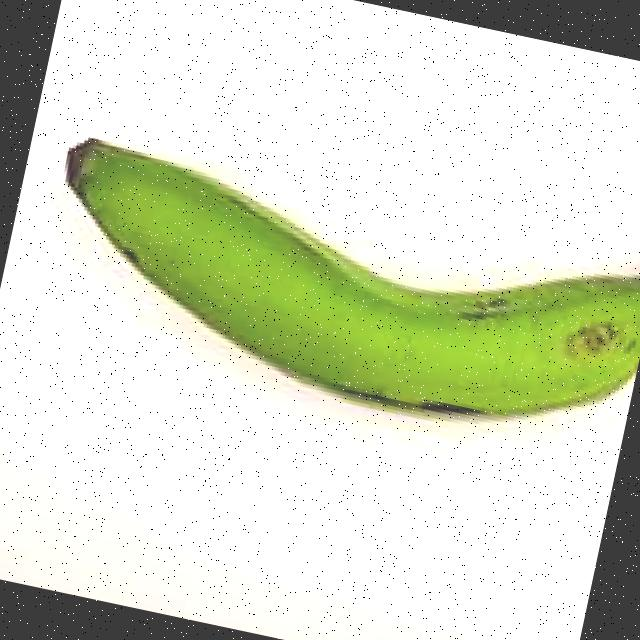Raw: (3, 57, 640, 470)
